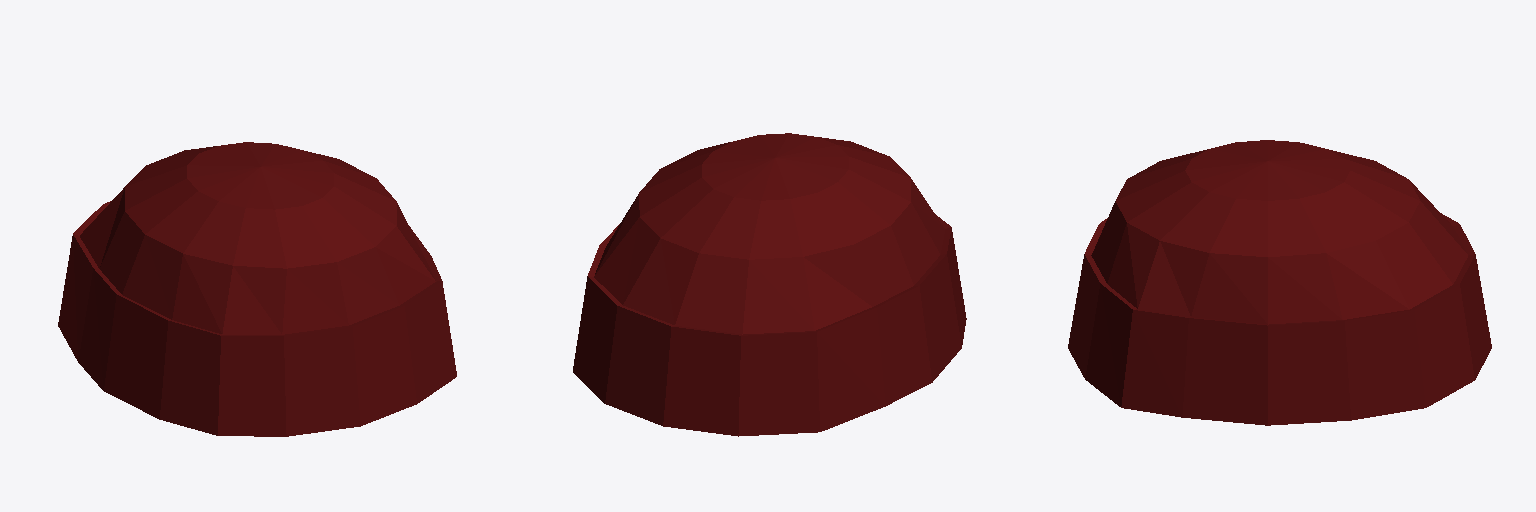
Rendered from gorro.obj.
The picture shows the model from 3 angles: view 1: azimuth 30°, elevation 25°; view 2: azimuth 150°, elevation 25°; view 3: azimuth 270°, elevation 25°; orthographic projection.
Parts seen in each view (by area): view 1: objobjobjSphere01; view 2: objobjobjSphere01; view 3: objobjobjSphere01.
Boxes of the visible parts, <box> form: objobjobjSphere01: <box>58,142,456,436</box>; objobjobjSphere01: <box>573,133,966,436</box>; objobjobjSphere01: <box>1068,140,1491,425</box>.
Bounding box in the file's own units: 273 × 155 × 317.